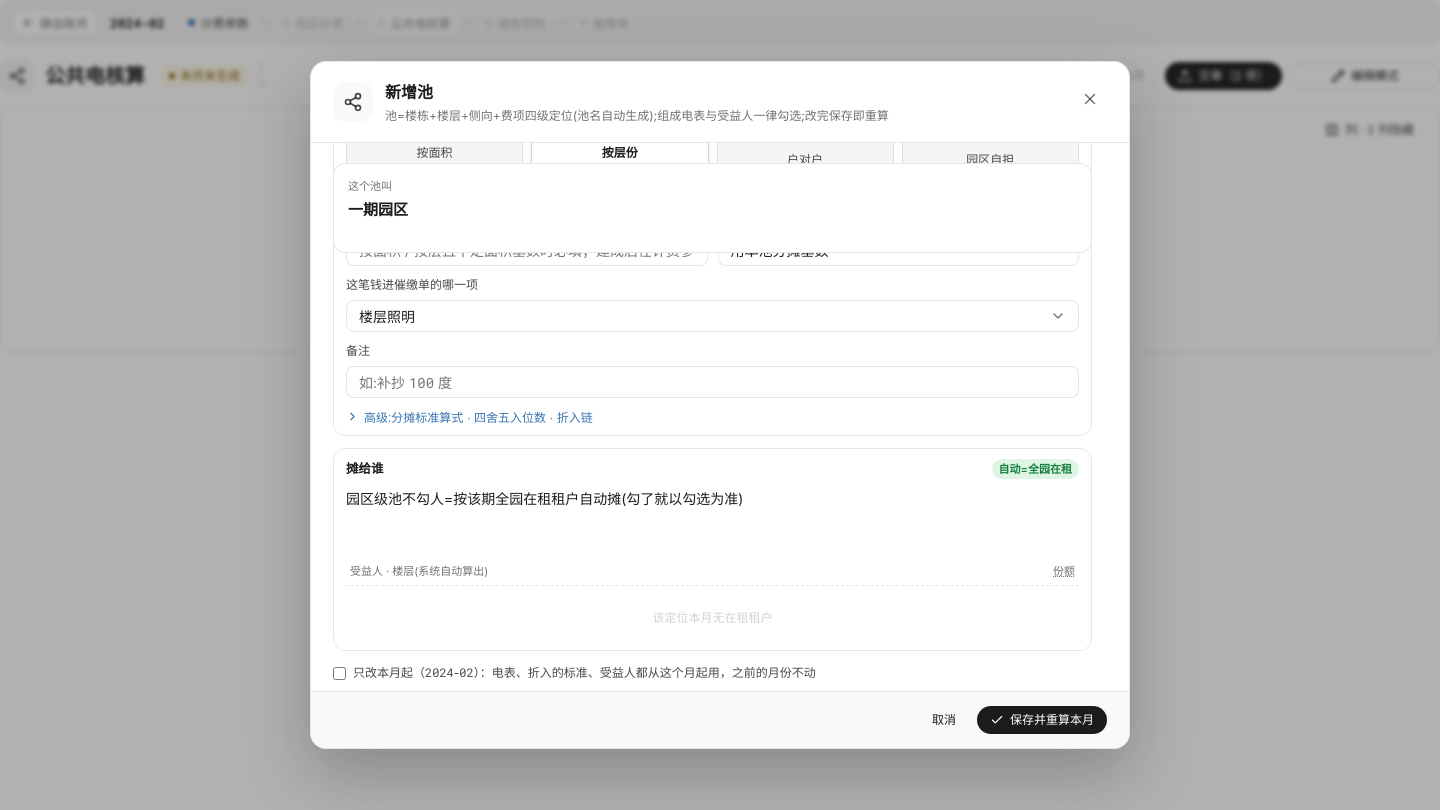
池按月配置 · 抽屉 › 新建池:照旧在「高级」里选四舍五入位数,没有只读句
(page scrolled)
Click the button "高级:分摊标准算式 · 四舍五入位数 · 折入链" at (469, 417), box [346, 408, 593, 425]
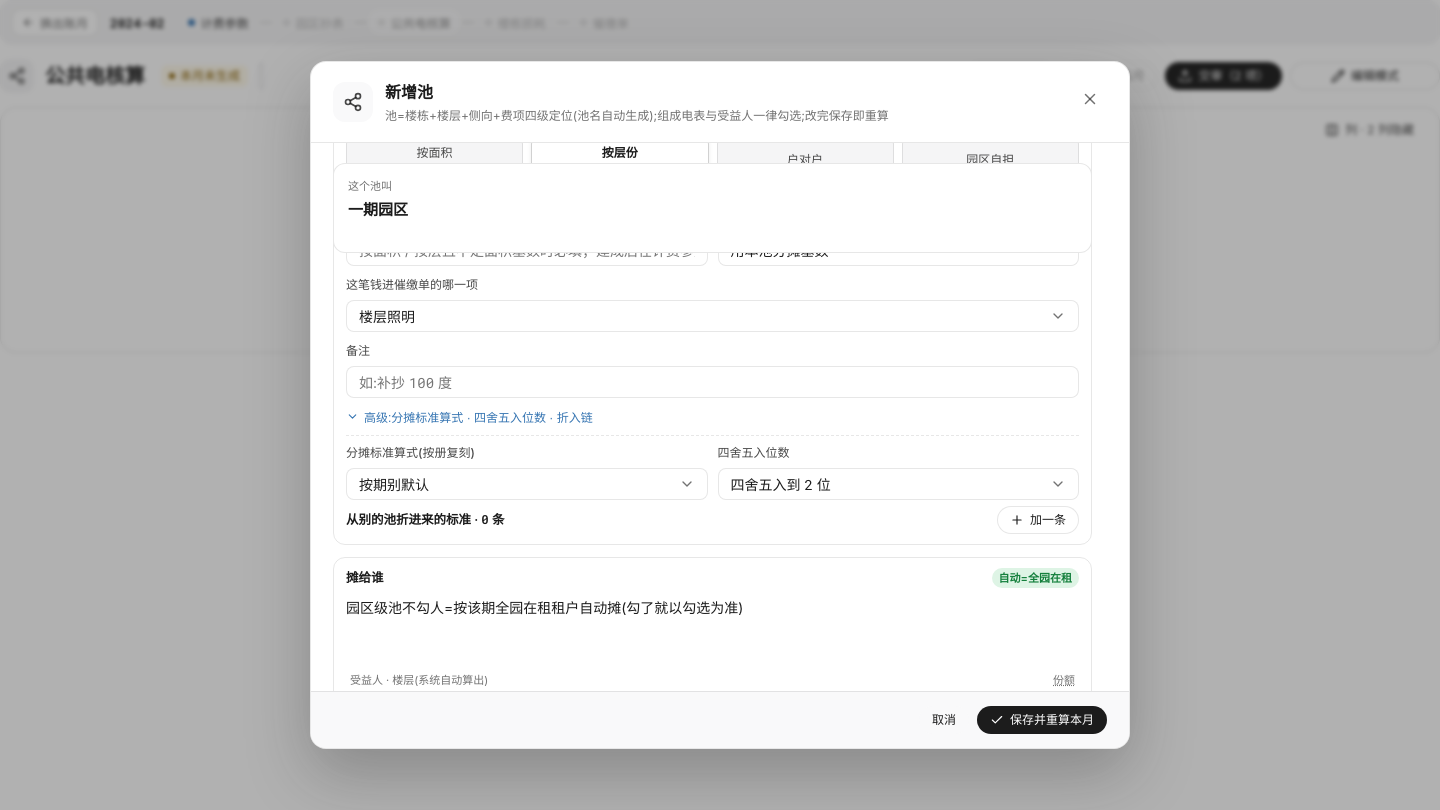
expect the element showing "分摊标准算式(按册复刻) 按期别默认 四舍五入位数 四舍五入到 2 位 从别的池折进来的标准 · 0 条 加一条" is shown: met, box [346, 435, 1079, 534]
